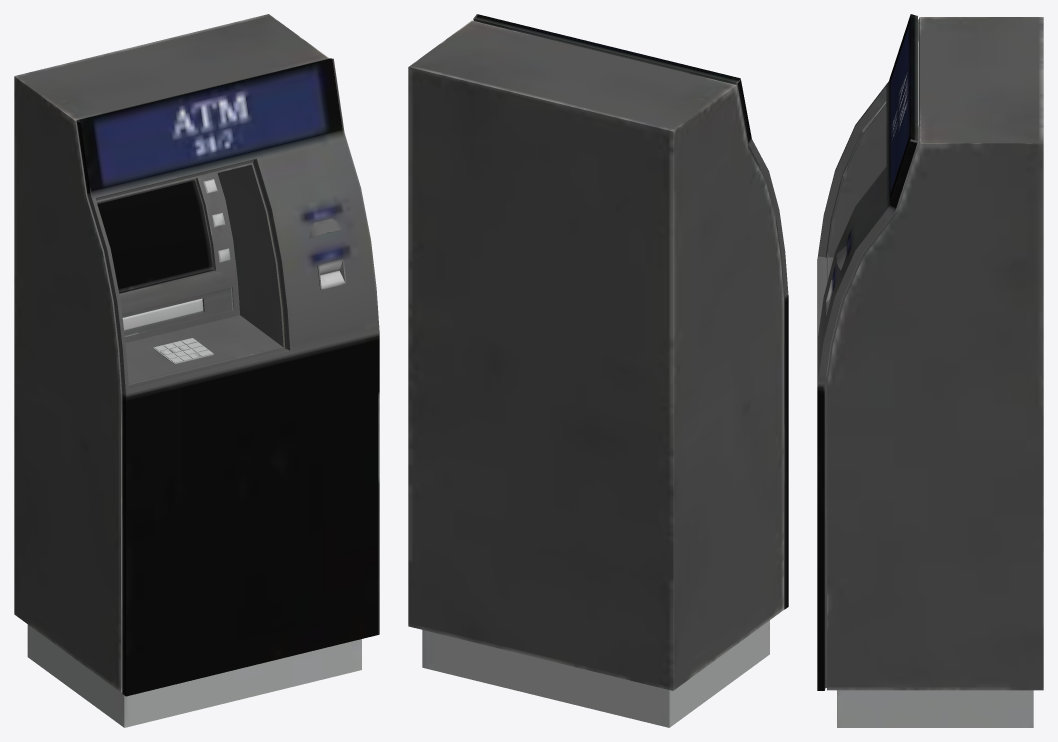
The model's file is atm.glb.
The picture shows the model from 3 angles, left to right: view 1: azimuth 30°, elevation 25°; view 2: azimuth 150°, elevation 25°; view 3: azimuth 270°, elevation 25°; orthographic projection. The views are drawn at different scales.
Parts seen in each view (by area): view 1: ATM; view 2: ATM; view 3: ATM.
Boxes of the visible parts, box(x1,y1,x2,y2) form: ATM: box(14, 14, 379, 727); ATM: box(408, 14, 788, 727); ATM: box(817, 14, 1043, 727).
Size of the model in its own units: 0.6731 by 1.47 by 0.5101.
1 material, 1 textured.
